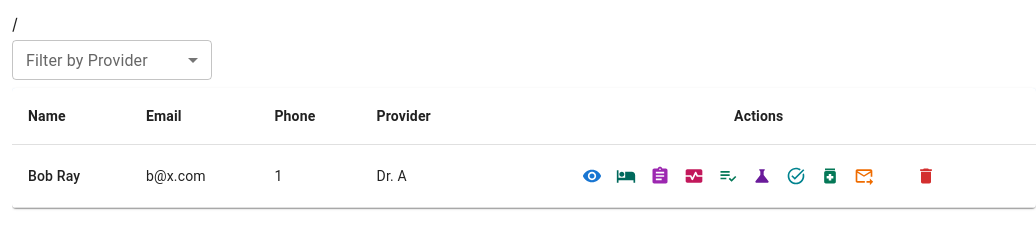
Scenario: the Task Manager icon selects the patient, then opens the Task Manager
The image size is (1036, 227).
Click the button named "Task Manager for Bob Ray".
click(796, 176)  # box x1=781 y1=161 x2=811 y2=191
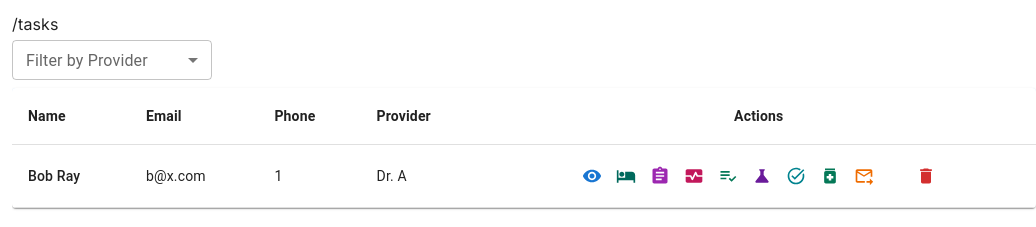
Check: the text with test id "where" reads "/tasks", box x1=12 y1=14 x2=59 y2=34
